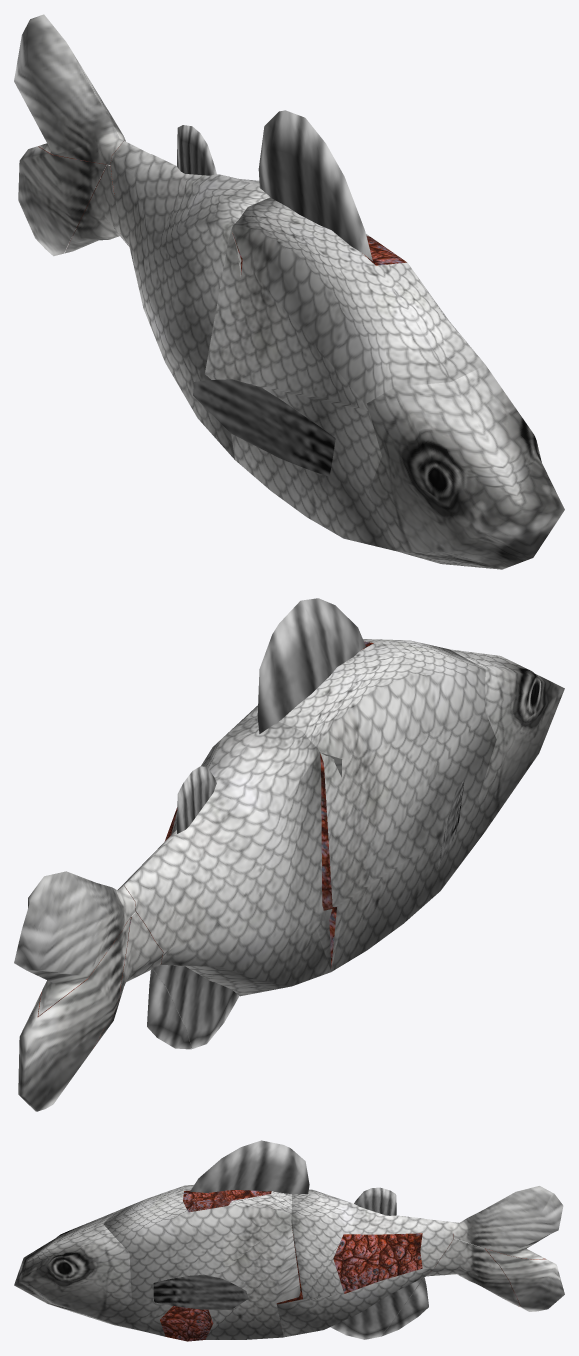
File: Fish Chunks.fbx
The picture shows the model from 3 angles, top to bottom: view 1: azimuth 30°, elevation 25°; view 2: azimuth 150°, elevation 25°; view 3: azimuth 270°, elevation 25°; orthographic projection. The views are drawn at different scales.
Parts seen in each view (by area): view 1: Fish 2.001_cell.004, Fish 2.001_cell.014, Fish 2.001_cell.015, Fish 2.001_cell.002, Fish 2.001_cell.008, Fish 2.001_cell.007, Fish 2.001_cell.005, Fish 2.001_cell.003, Fish 2.001_cell.013; view 2: Fish 2.001_cell.004, Fish 2.001_cell.015, Fish 2.001_cell.002, Fish 2.001_cell.005, Fish 2.001_cell.014, Fish 2.001_cell.008, Fish 2.001_cell.011, Fish 2.001_cell.010, Fish 2.001_cell.003, Fish 2.001_cell.013, Fish 2.001_cell.007; view 3: Fish 2.001_cell.004, Fish 2.001_cell.015, Fish 2.001_cell.014, Fish 2.001_cell.002, Fish 2.001_cell.008, Fish 2.001_cell.005, Fish 2.001_cell.006, Fish 2.001_cell.003, Fish 2.001_cell.011, Fish 2.001_cell.010, Fish 2.001_cell.013.
Part boxes in pixels (left/top/right/bottom): Fish 2.001_cell.004: left=205, top=197, right=485, bottom=551; Fish 2.001_cell.014: left=367, top=365, right=564, bottom=569; Fish 2.001_cell.015: left=110, top=141, right=270, bottom=459; Fish 2.001_cell.002: left=14, top=14, right=125, bottom=165; Fish 2.001_cell.008: left=258, top=110, right=372, bottom=260; Fish 2.001_cell.007: left=193, top=379, right=335, bottom=476; Fish 2.001_cell.005: left=18, top=146, right=106, bottom=256; Fish 2.001_cell.003: left=64, top=164, right=129, bottom=253; Fish 2.001_cell.013: left=177, top=125, right=216, bottom=175; Fish 2.001_cell.004: left=232, top=639, right=496, bottom=971; Fish 2.001_cell.015: left=117, top=718, right=342, bottom=996; Fish 2.001_cell.002: left=14, top=871, right=135, bottom=1015; Fish 2.001_cell.005: left=18, top=917, right=130, bottom=1111; Fish 2.001_cell.014: left=450, top=649, right=564, bottom=832; Fish 2.001_cell.008: left=257, top=598, right=365, bottom=733; Fish 2.001_cell.011: left=153, top=965, right=239, bottom=1048; Fish 2.001_cell.010: left=147, top=969, right=191, bottom=1049; Fish 2.001_cell.003: left=93, top=912, right=163, bottom=1048; Fish 2.001_cell.013: left=177, top=766, right=216, bottom=833; Fish 2.001_cell.007: left=437, top=780, right=464, bottom=869; Fish 2.001_cell.004: left=103, top=1185, right=300, bottom=1341; Fish 2.001_cell.015: left=276, top=1189, right=453, bottom=1337; Fish 2.001_cell.014: left=14, top=1212, right=131, bottom=1324; Fish 2.001_cell.002: left=453, top=1186, right=563, bottom=1258; Fish 2.001_cell.008: left=190, top=1140, right=309, bottom=1194; Fish 2.001_cell.005: left=485, top=1248, right=564, bottom=1311; Fish 2.001_cell.006: left=153, top=1274, right=248, bottom=1309; Fish 2.001_cell.003: left=427, top=1238, right=519, bottom=1306; Fish 2.001_cell.011: left=330, top=1278, right=422, bottom=1339; Fish 2.001_cell.010: left=381, top=1277, right=428, bottom=1336; Fish 2.001_cell.013: left=354, top=1187, right=396, bottom=1215.
Bounding box in the file's own units: 133 × 190 × 473.
